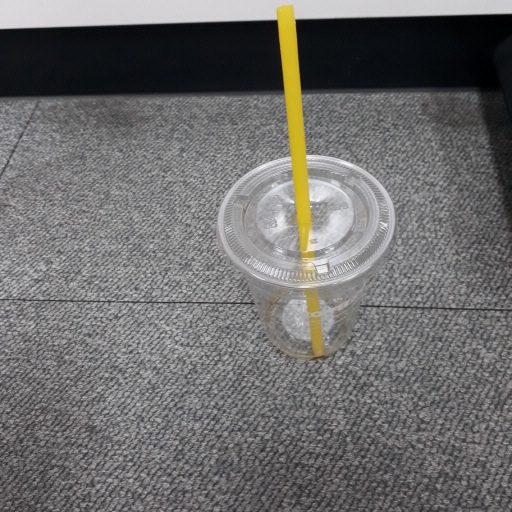Plastic_2: (210, 4, 401, 357)
